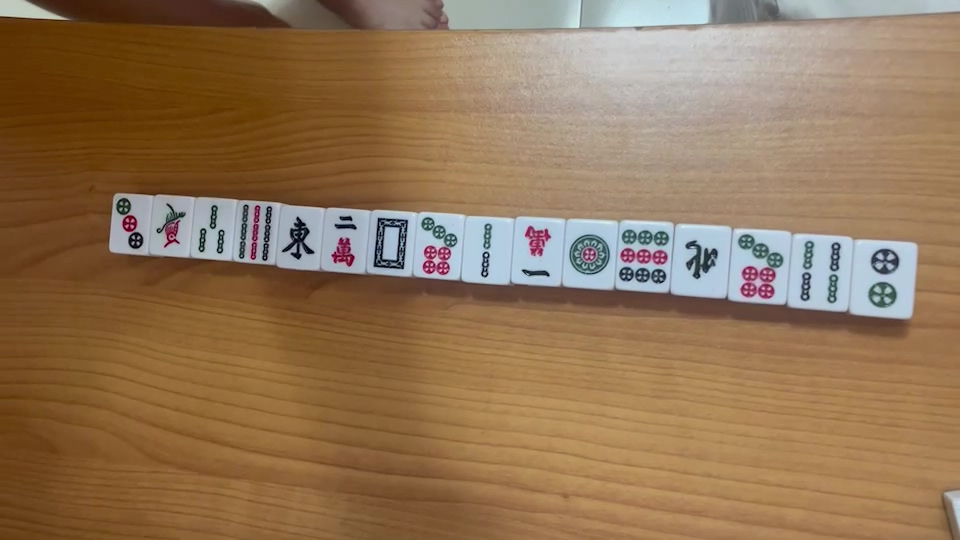b-1: (153, 202, 186, 251)
b-2: (472, 220, 500, 280)
b-3: (194, 204, 229, 253)
b-4: (798, 238, 843, 305)
b-9: (235, 200, 274, 263)
c-1: (520, 224, 554, 281)
c-2: (329, 214, 359, 266)
d-1: (566, 233, 612, 279)
d-2: (866, 246, 902, 308)
d-3: (114, 198, 144, 252)
d-7: (735, 233, 786, 300), (416, 215, 461, 277)
d-9: (619, 226, 667, 287)
honors-east: (280, 213, 317, 266)
honors-north: (676, 236, 721, 287)
honors-white: (373, 217, 411, 270)
